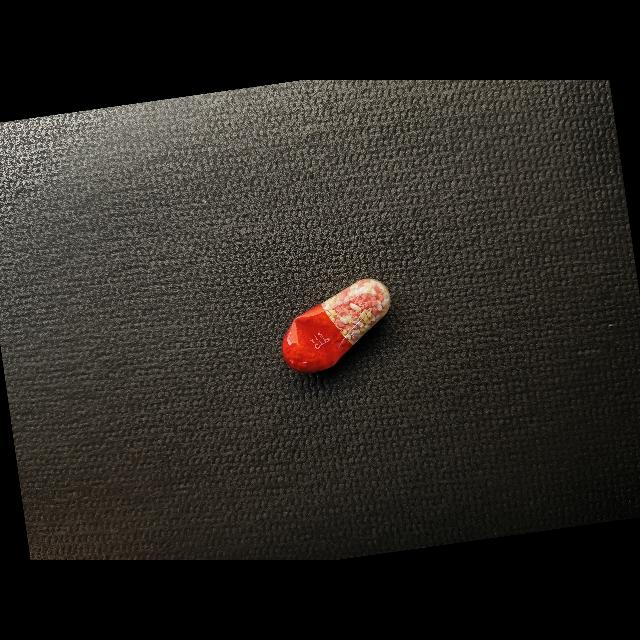Defective Capsule: (282, 278, 391, 373)
